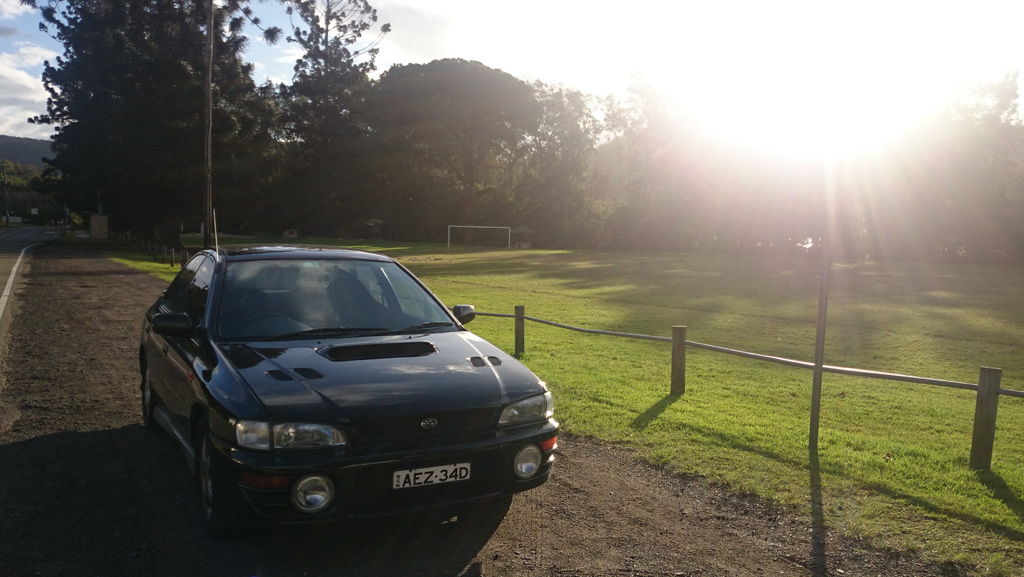Car: (135, 241, 554, 525)
